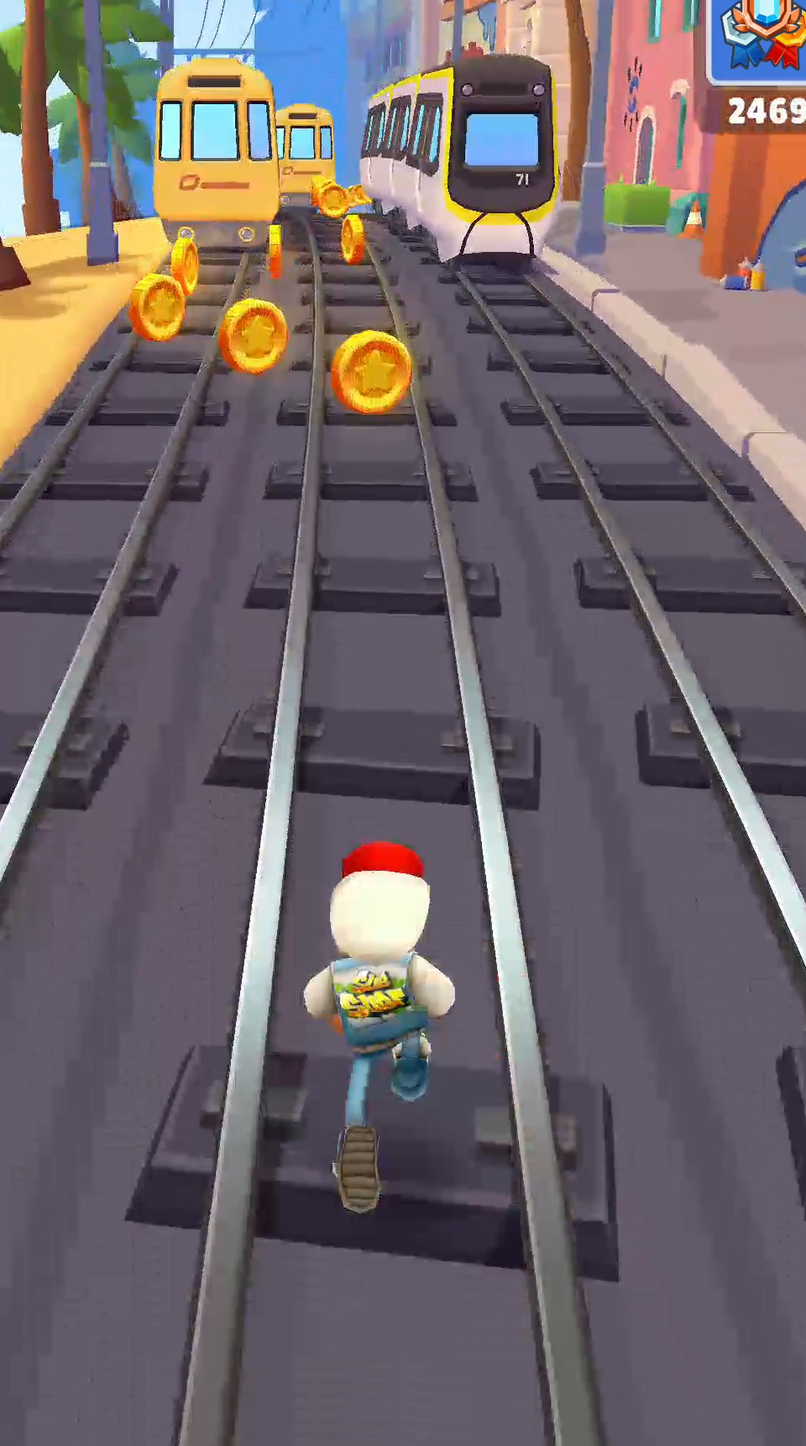train: (360, 55, 558, 261), (154, 56, 282, 277), (278, 103, 335, 202)
